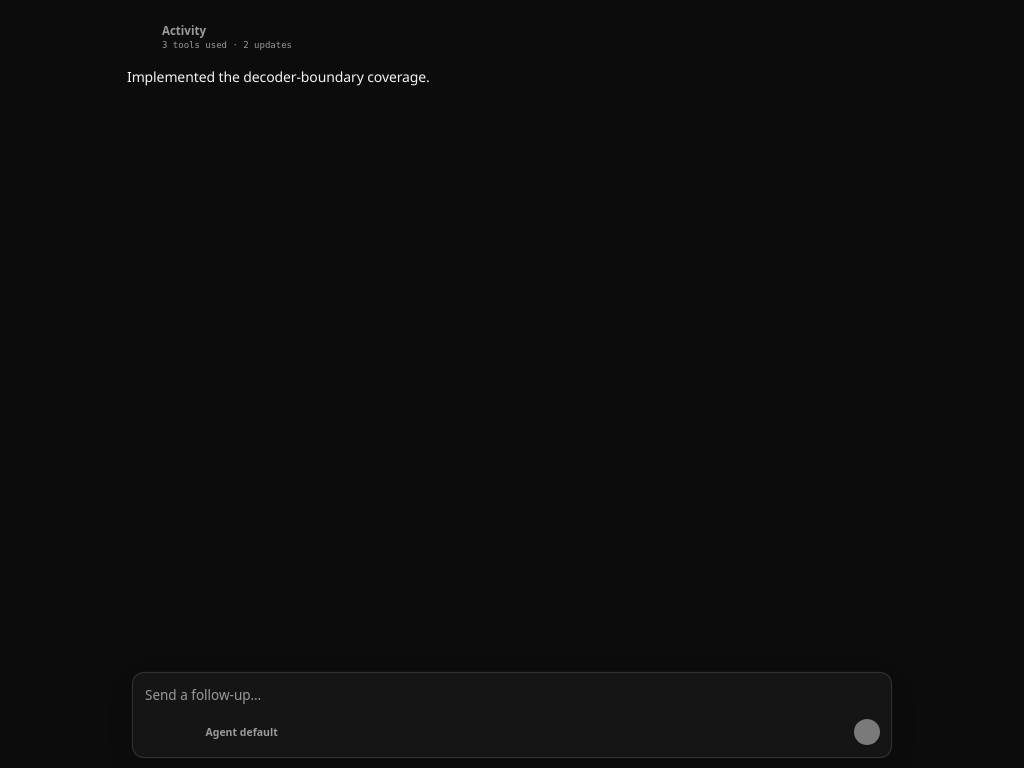
Test case: collapses interim assistant responses into completed turn activity
This screenshot has width=1024, height=768.
Check: the text "I’ll inspect the command boundary next." is shown, box top-left (127, 18), bottom-right (887, 57)
Check: the text "Implemented the decoder-boundary coverage." is shown, box top-left (127, 68), bottom-right (430, 87)
Click the button "Activity 3 tools used · 2 updates": (184, 30) top-left (140, 18), bottom-right (887, 54)
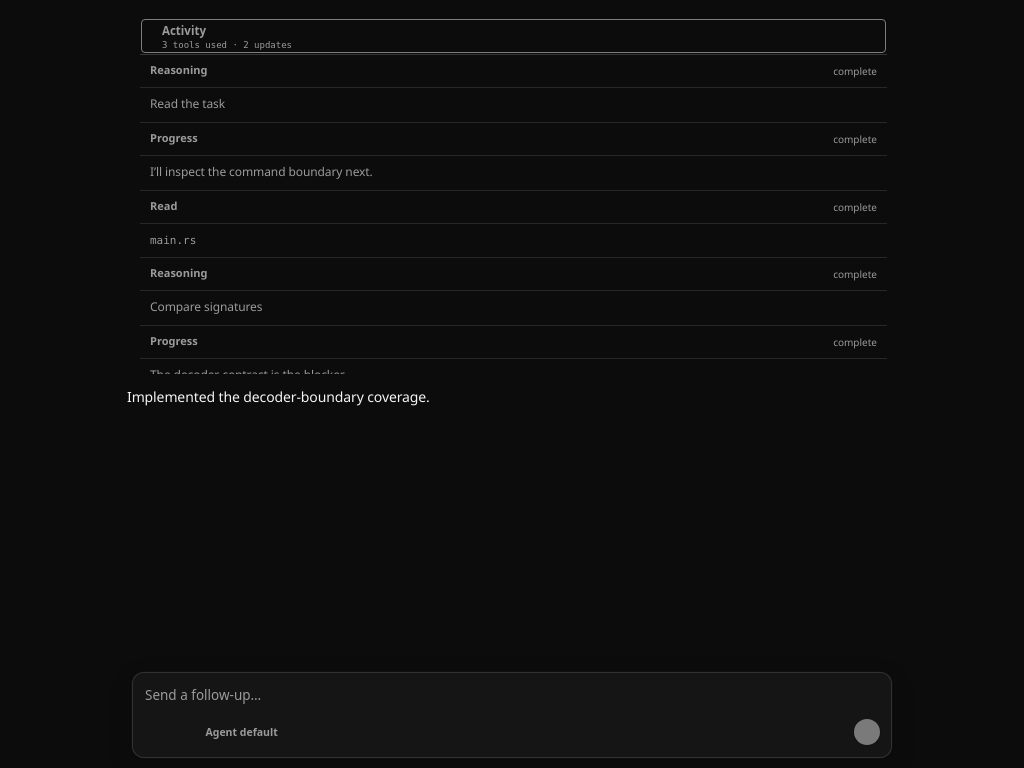
Check: the text "Read the task" is shown, box top-left (150, 95), bottom-right (225, 112)
Check: the text "Compare signatures" is shown, box top-left (150, 298), bottom-right (262, 315)
